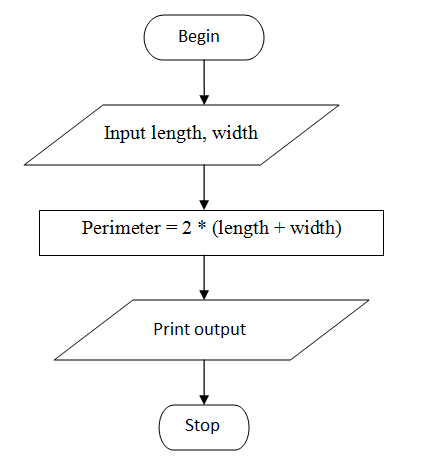arrow: (195, 357, 210, 404), (197, 57, 211, 103), (197, 253, 211, 299), (197, 162, 210, 209)
data: (22, 101, 342, 168), (52, 296, 370, 363)
process: (37, 208, 387, 259)
terminator: (142, 11, 268, 63), (156, 403, 252, 452)
text: (78, 218, 345, 239), (101, 122, 260, 144), (152, 321, 249, 340), (176, 27, 223, 45), (184, 416, 221, 437)
